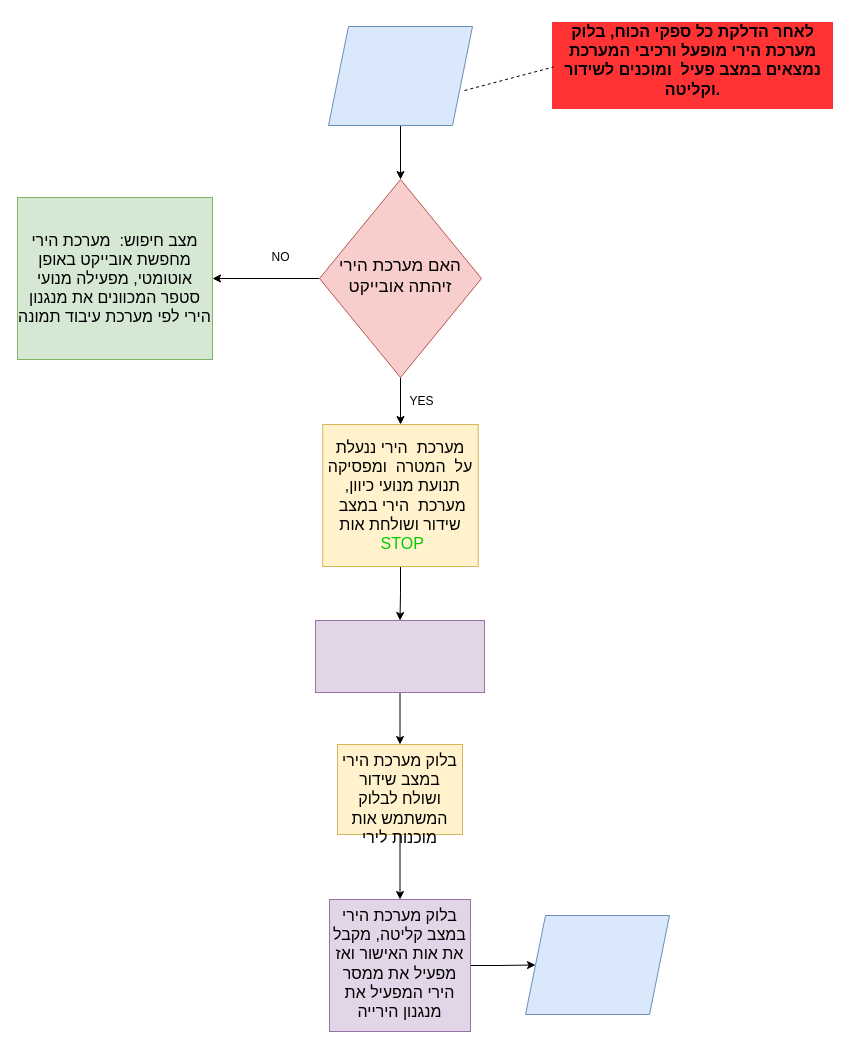
Some shapes in this 850 by 1049 pixel diagram are drawn without their labels. The shapes that lost their labels are listed below. From the top down, each one's centre as x and y in pixels, then its label:
[400,76]: מצב התחלתי
[399,656]: בלוק מערכת הירי במצב קליטה, מקבל את אישור העצירה
[597,964]: מצב סיום
